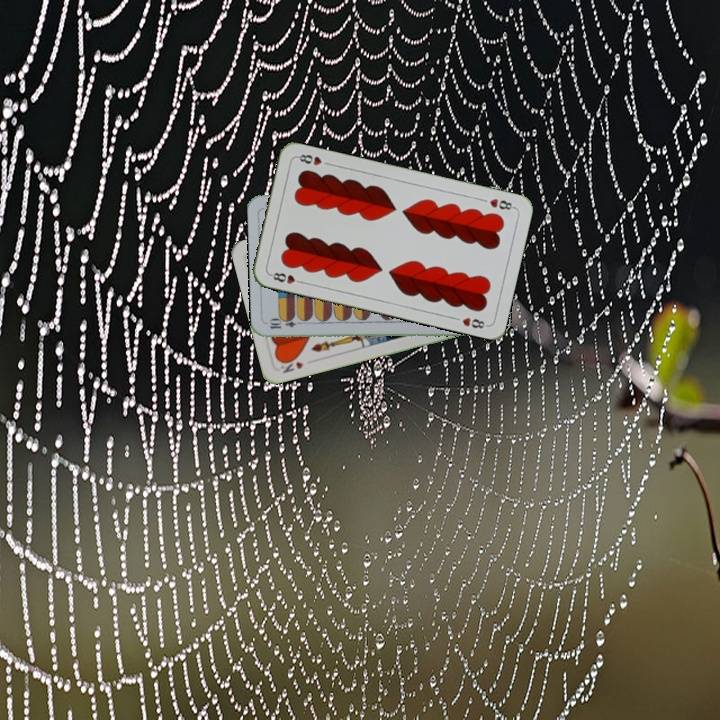E10: (265, 316, 306, 331)
H8: (266, 268, 306, 286), (485, 194, 517, 212)
HK: (275, 354, 306, 376)
